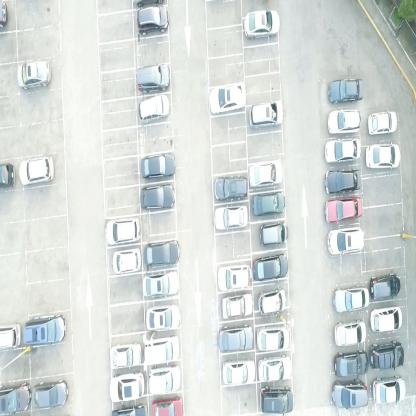car: (24, 312, 65, 346), (18, 153, 54, 187), (327, 225, 365, 257), (209, 82, 247, 114), (330, 379, 369, 410), (32, 379, 70, 410), (369, 339, 405, 371), (140, 148, 176, 180), (252, 252, 290, 282), (244, 9, 279, 41), (110, 370, 145, 402), (248, 158, 284, 189), (256, 322, 292, 353), (144, 335, 180, 366), (257, 353, 294, 383), (222, 355, 256, 387), (136, 62, 170, 94), (17, 58, 51, 90), (248, 98, 284, 128), (259, 384, 295, 414), (140, 182, 176, 212), (147, 365, 184, 394), (0, 381, 31, 415), (324, 196, 363, 223), (218, 323, 253, 353), (144, 238, 179, 268), (333, 285, 369, 314), (137, 4, 169, 36), (373, 375, 407, 405), (106, 214, 140, 244), (324, 167, 360, 195), (325, 138, 362, 165), (138, 93, 171, 123), (252, 188, 287, 216), (365, 143, 401, 170), (142, 271, 178, 298), (334, 318, 366, 348), (370, 305, 403, 334), (214, 173, 248, 201), (146, 303, 180, 331), (328, 78, 364, 104), (334, 350, 367, 378), (257, 286, 287, 316), (369, 272, 401, 300), (327, 108, 361, 134), (220, 294, 254, 320), (218, 265, 252, 291), (214, 206, 248, 232), (112, 246, 141, 275), (111, 339, 141, 366), (260, 221, 290, 246), (367, 112, 397, 134), (0, 320, 22, 350), (150, 397, 184, 415), (0, 160, 16, 190), (111, 403, 148, 415)
